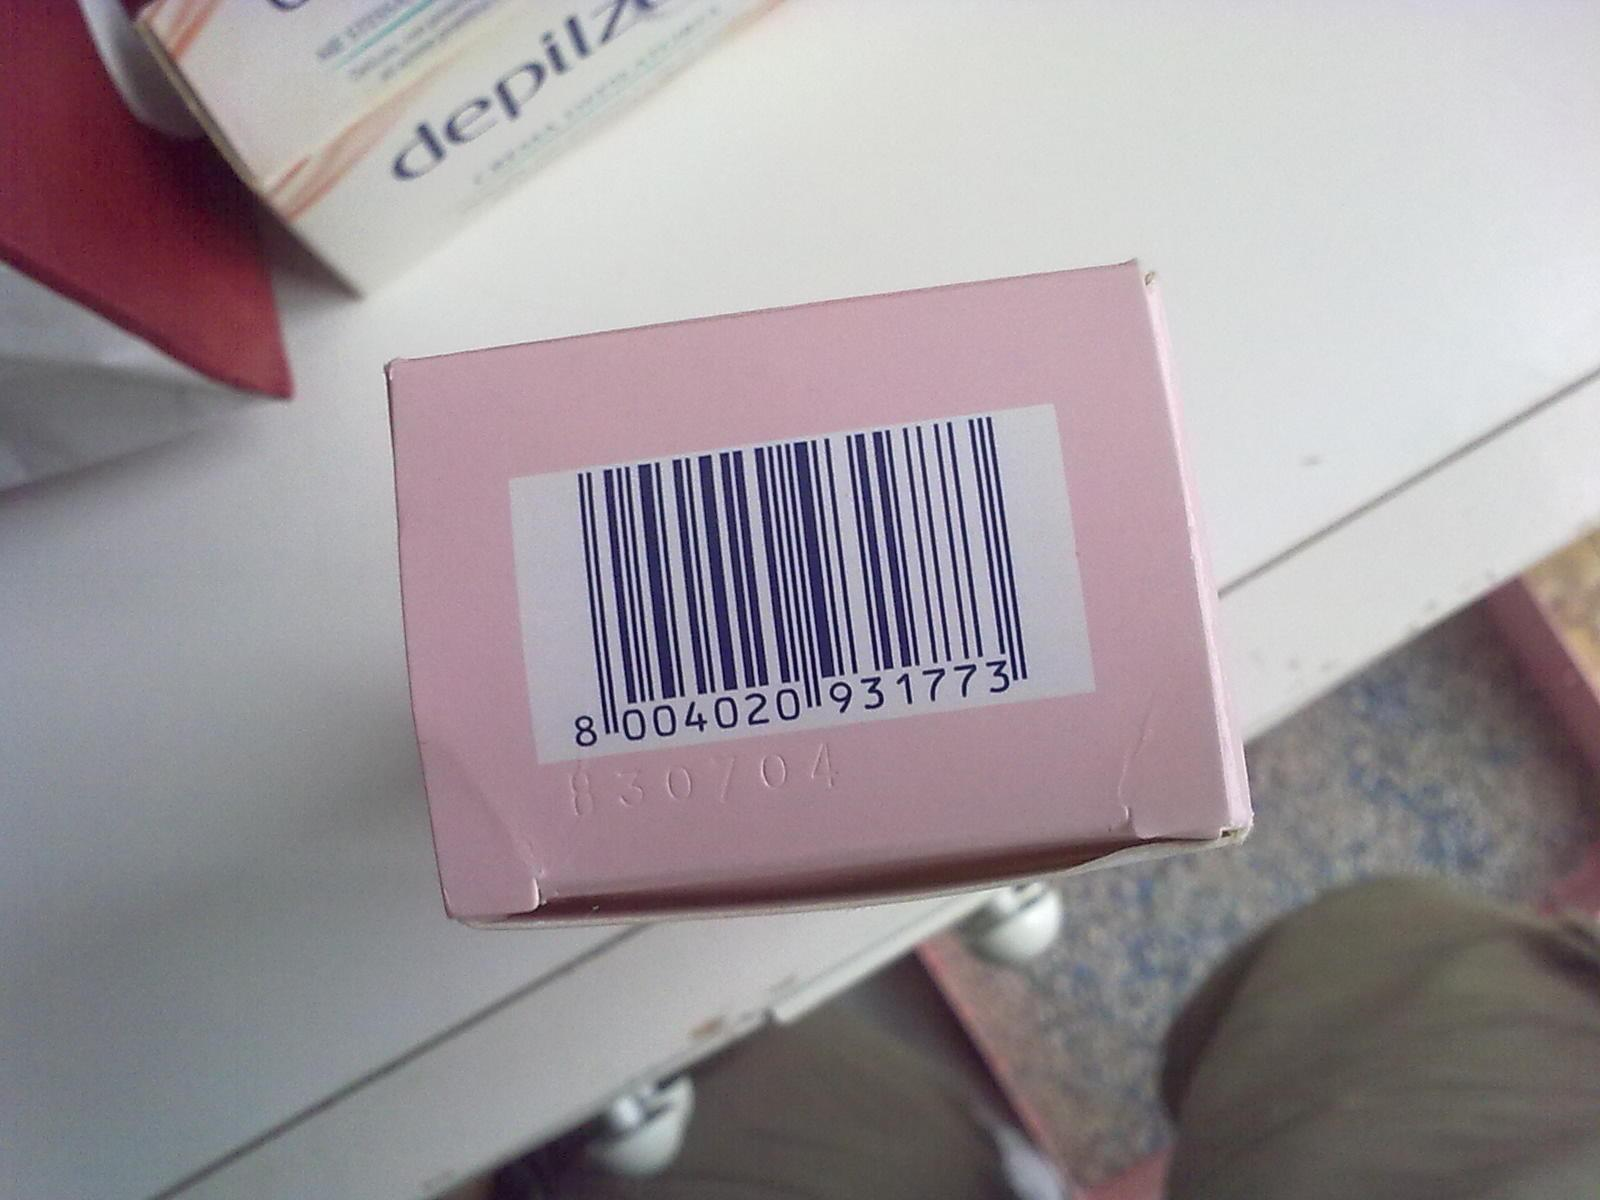barcode: (504, 400, 1099, 768)
